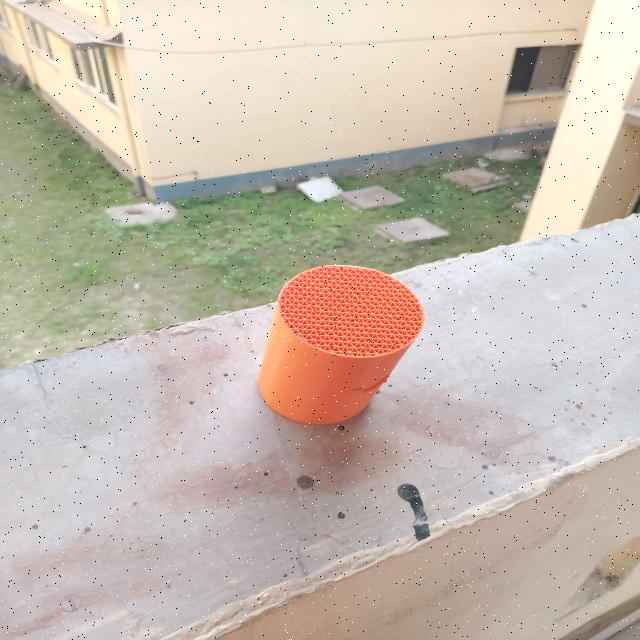Cylinder: (255, 263, 425, 425)
